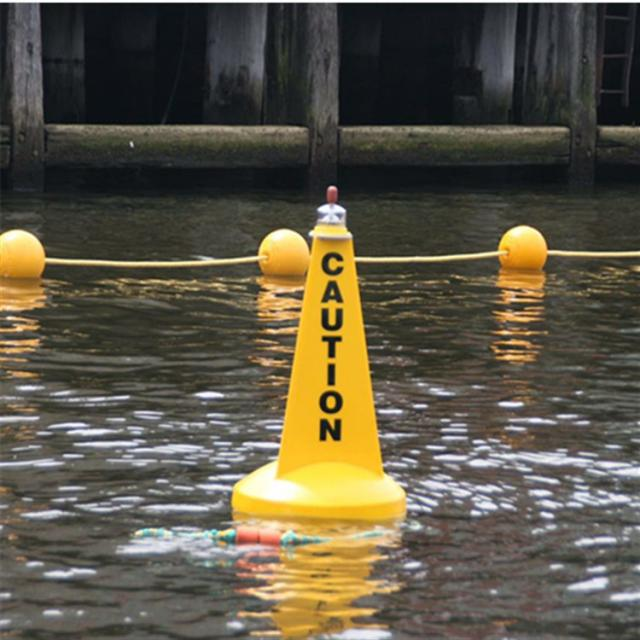buoy: (234, 186, 413, 535)
